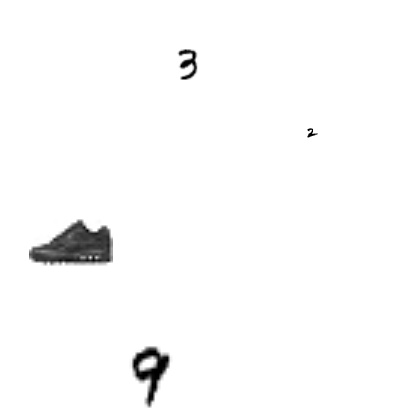2: (304, 126, 318, 140)
3: (167, 42, 209, 84)
9: (109, 326, 193, 410)
Sneaker: (29, 199, 113, 283)
